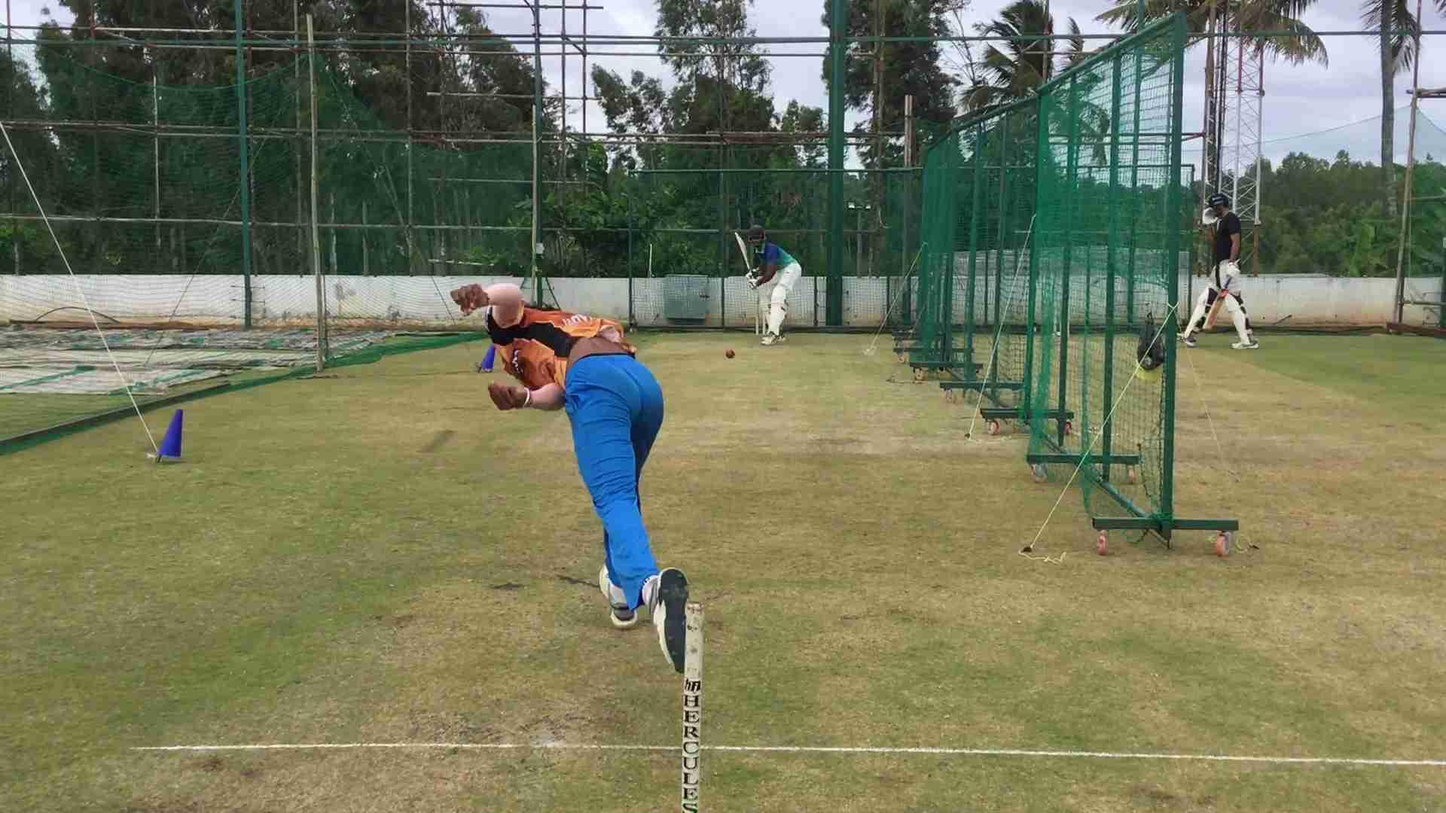batsman: (743, 220, 808, 353)
